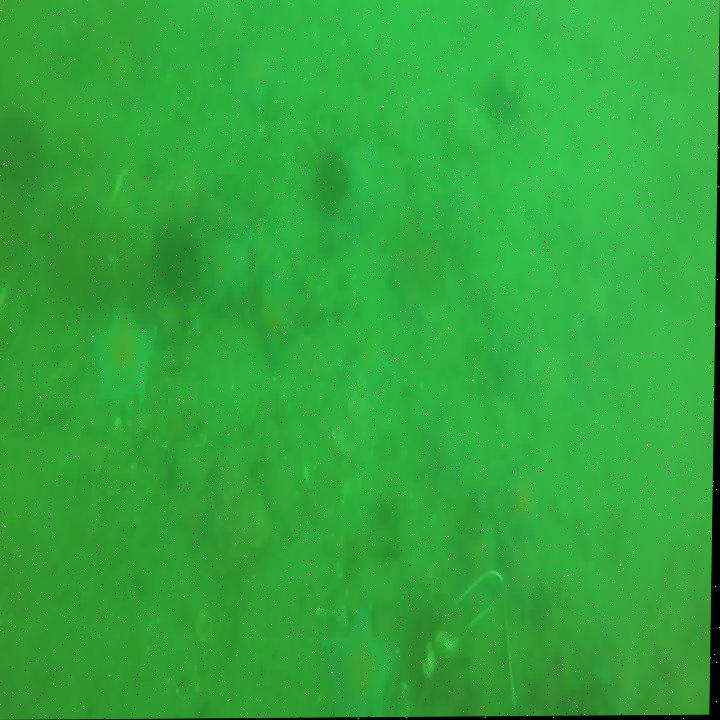echinus: (0, 109, 45, 186), (157, 230, 198, 295), (315, 147, 352, 218), (489, 68, 521, 121)
scallop: (195, 610, 218, 642), (435, 631, 460, 657), (419, 649, 441, 677)
starfish: (318, 606, 404, 718), (85, 309, 157, 405), (423, 410, 475, 488), (257, 264, 294, 363), (590, 644, 640, 717), (231, 45, 276, 115), (209, 236, 244, 314), (504, 466, 542, 536), (351, 330, 393, 392)
